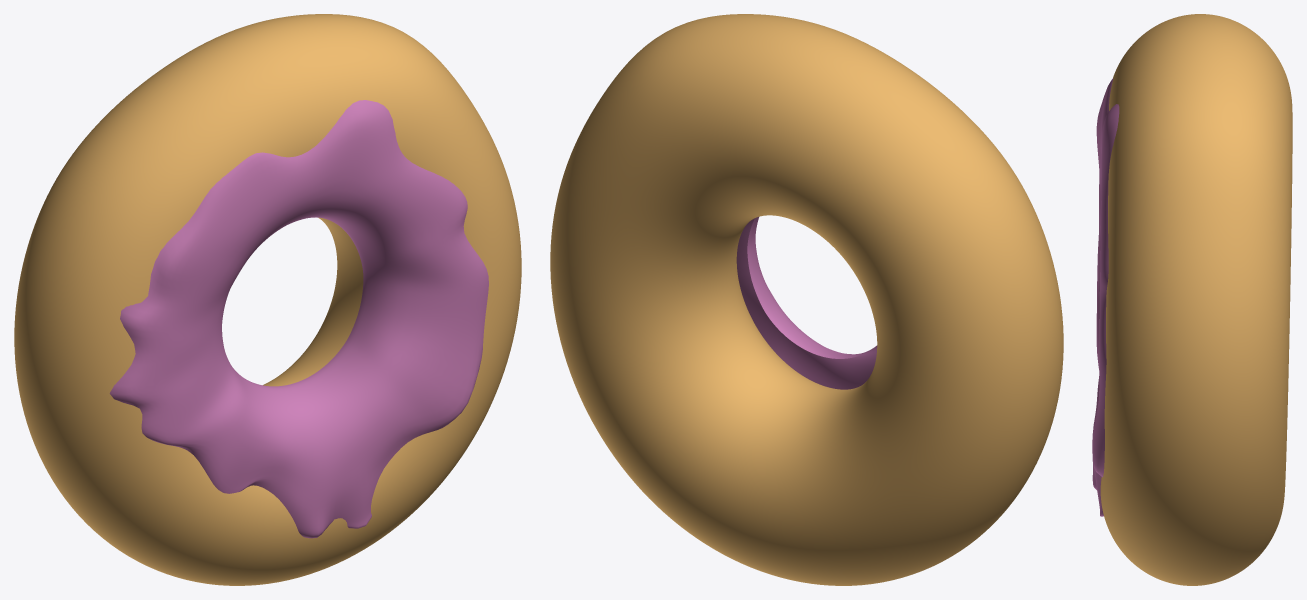
File: bare_donut.fbx
3 renders of one model, left to right at view 1: azimuth 30°, elevation 25°; view 2: azimuth 150°, elevation 25°; view 3: azimuth 270°, elevation 25°, orthographic. The views are drawn at different scales.
Visible parts, largest first — view 1: polySurface3; view 2: polySurface3; view 3: polySurface3.
Boxes of the visible parts, x1,y1,x2,y2 form: polySurface3: (14, 14, 521, 585); polySurface3: (550, 14, 1063, 585); polySurface3: (1092, 14, 1292, 585).
Size of the model in its own units: 4.04 by 4.31 by 1.48.
